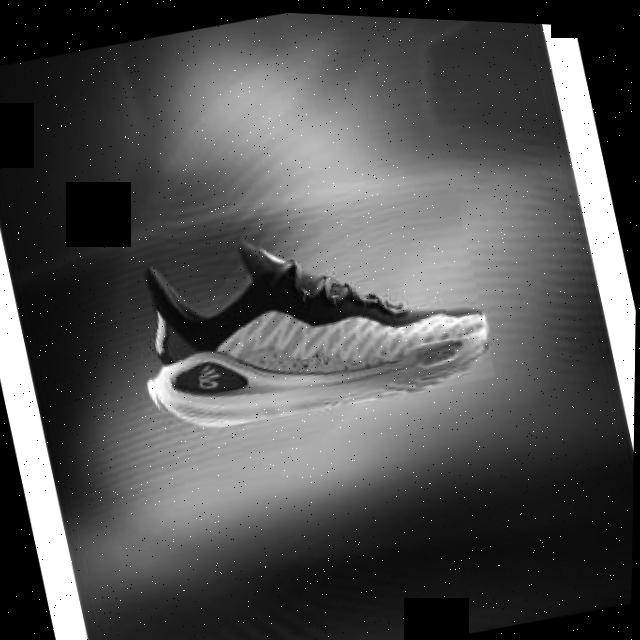shoe: (119, 181, 498, 449)
